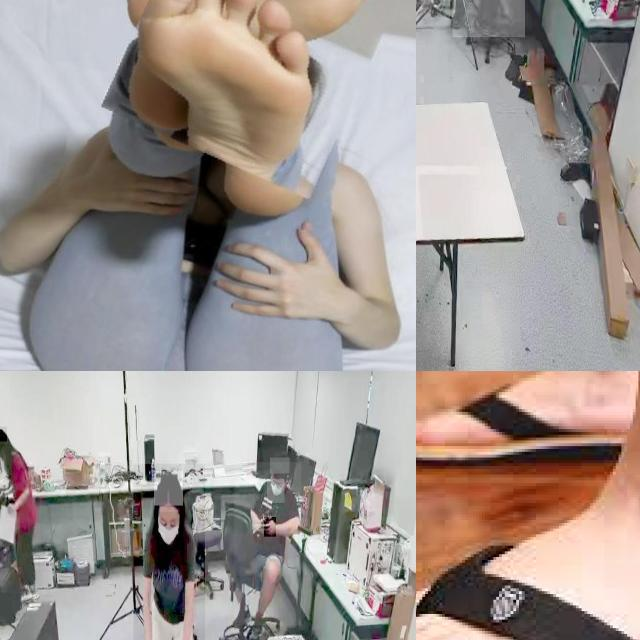Barefoots: (131, 0, 329, 201), (116, 0, 364, 138)
Sandals: (416, 529, 640, 640)
face_mask: (157, 512, 183, 551), (267, 479, 285, 503)
hand_noglove: (264, 517, 276, 538), (6, 497, 16, 519)
head_nohelmet: (154, 471, 184, 506), (270, 458, 290, 474), (0, 426, 7, 442)
person: (133, 463, 205, 640), (234, 462, 302, 626), (0, 423, 55, 601)
